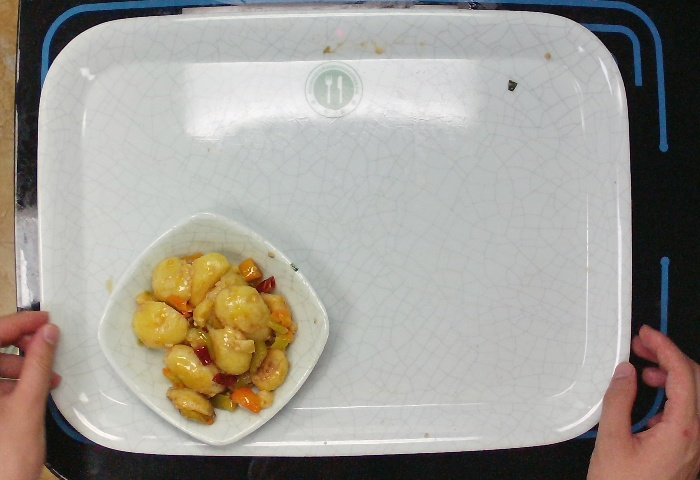WCQzf-Da_Si_Fang_Die: (94, 207, 332, 449)
